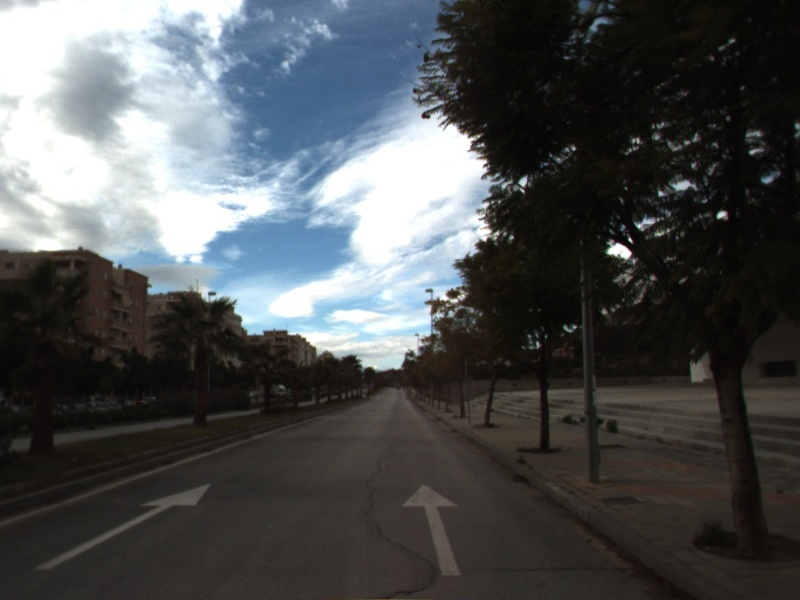STRAIGHT: (33, 481, 213, 572), (400, 481, 463, 577)
